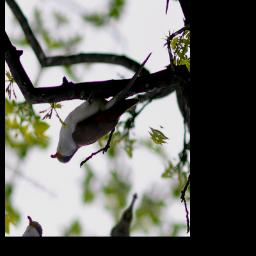Cuckoo: (49, 18, 159, 192)
